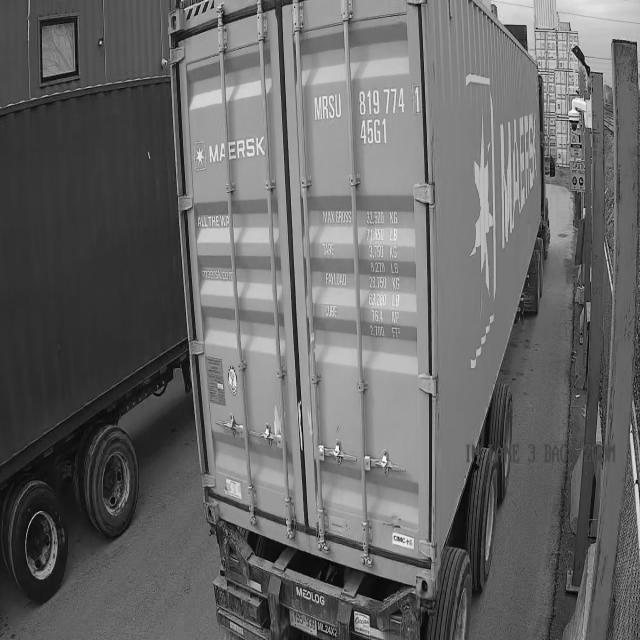container_company_logo: (203, 139, 271, 170)
container_number: (312, 87, 426, 151)
license_plate: (282, 601, 327, 633)
other_container_info: (318, 195, 415, 352)
truck_with_container: (167, 0, 547, 639), (0, 77, 190, 603)
